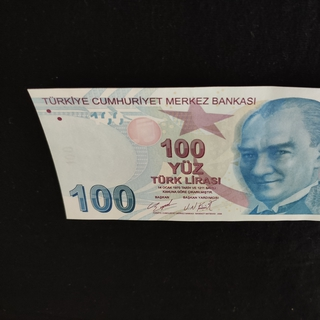100TLFront: (25, 85, 320, 223)
